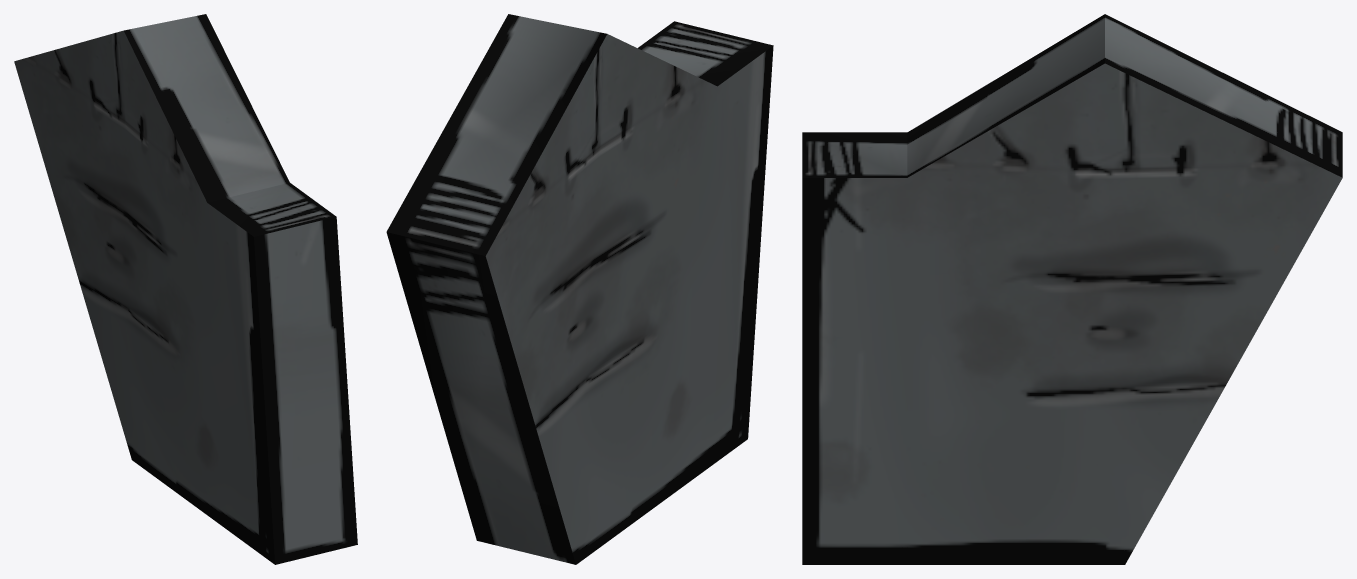
Rendered from tombstone_05_gib1.fbx.
3 renders of one model, left to right at view 1: azimuth 30°, elevation 25°; view 2: azimuth 150°, elevation 25°; view 3: azimuth 270°, elevation 25°, orthographic. The views are drawn at different scales.
Parts seen in each view (by area): view 1: tombstone_05_gib1; view 2: tombstone_05_gib1; view 3: tombstone_05_gib1.
Boxes of the visible parts, x1=… form: tombstone_05_gib1: x1=14, y1=14, x2=357, y2=564; tombstone_05_gib1: x1=386, y1=14, x2=773, y2=564; tombstone_05_gib1: x1=802, y1=14, x2=1342, y2=564.
Bounding box in the file's own units: 1.26 × 5.09 × 5.02.
